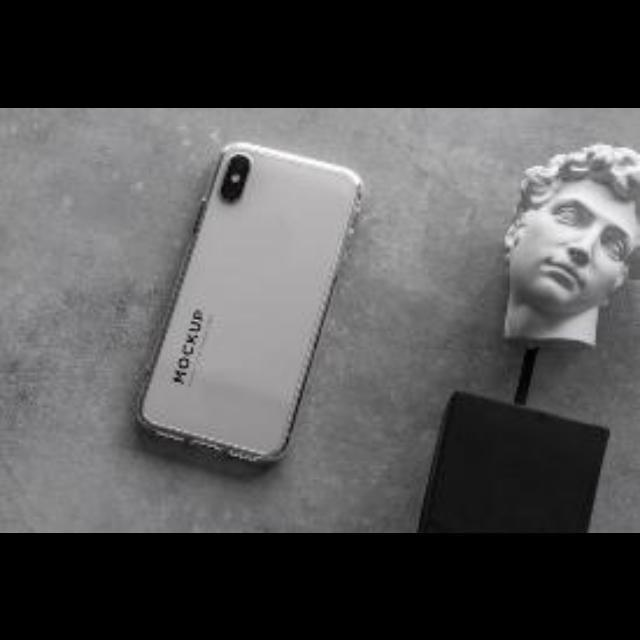phone: (125, 123, 372, 487)
